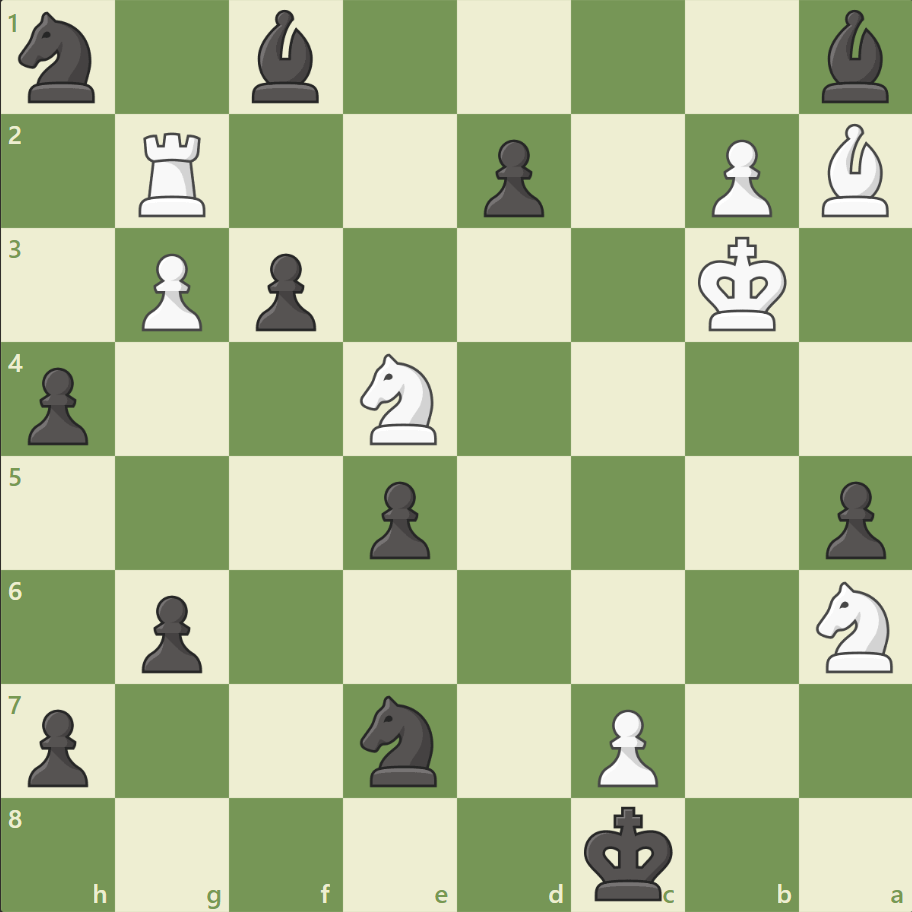B: (812, 120, 896, 222)
K: (692, 231, 792, 339)
N: (351, 348, 449, 450), (806, 575, 903, 677)
P: (133, 246, 208, 337), (701, 132, 776, 223), (588, 700, 662, 791)
R: (133, 125, 215, 222)
b: (812, 6, 896, 109), (244, 6, 328, 109)
k: (579, 798, 679, 906)
n: (351, 688, 449, 791), (11, 7, 108, 110)
p: (20, 700, 95, 791), (133, 586, 208, 677), (20, 359, 95, 450), (247, 246, 322, 337), (474, 132, 549, 223), (815, 473, 889, 564), (361, 473, 435, 564)
